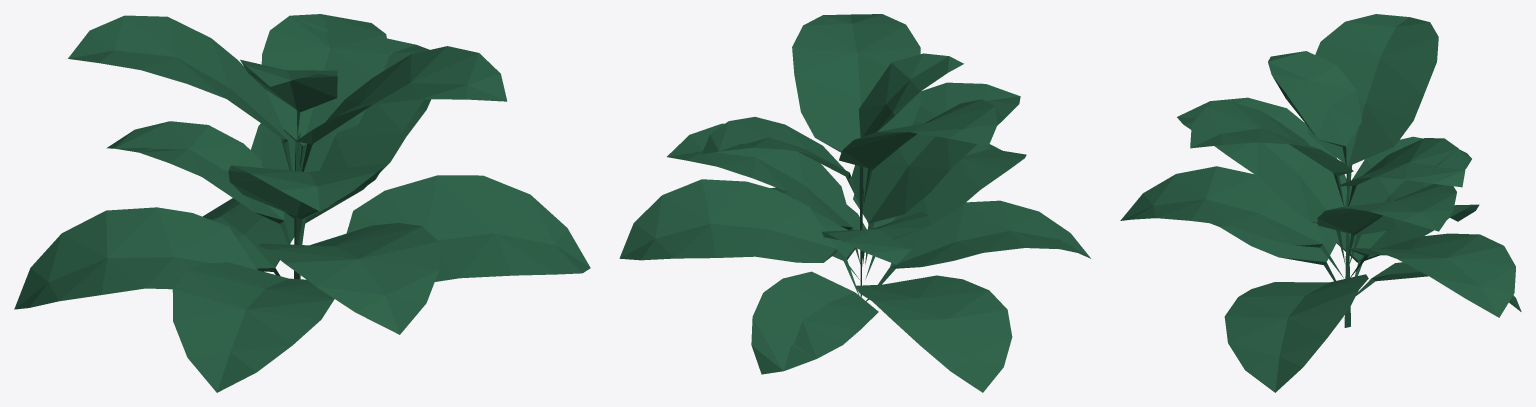
The model's file is Plant02.fbx.
3 views of the same model, side by side, from view 1: azimuth 30°, elevation 25°; view 2: azimuth 150°, elevation 25°; view 3: azimuth 270°, elevation 25° (orthographic). The views are drawn at different scales.
Visible parts, largest first — view 1: Plant_02; view 2: Plant_02; view 3: Plant_02.
Part boxes in pixels (<box>): Plant_02: <box>14,14,590,392</box>; Plant_02: <box>619,14,1090,392</box>; Plant_02: <box>1120,14,1521,392</box>.
Bounding box in the file's own units: 106 × 66.34 × 98.12.
